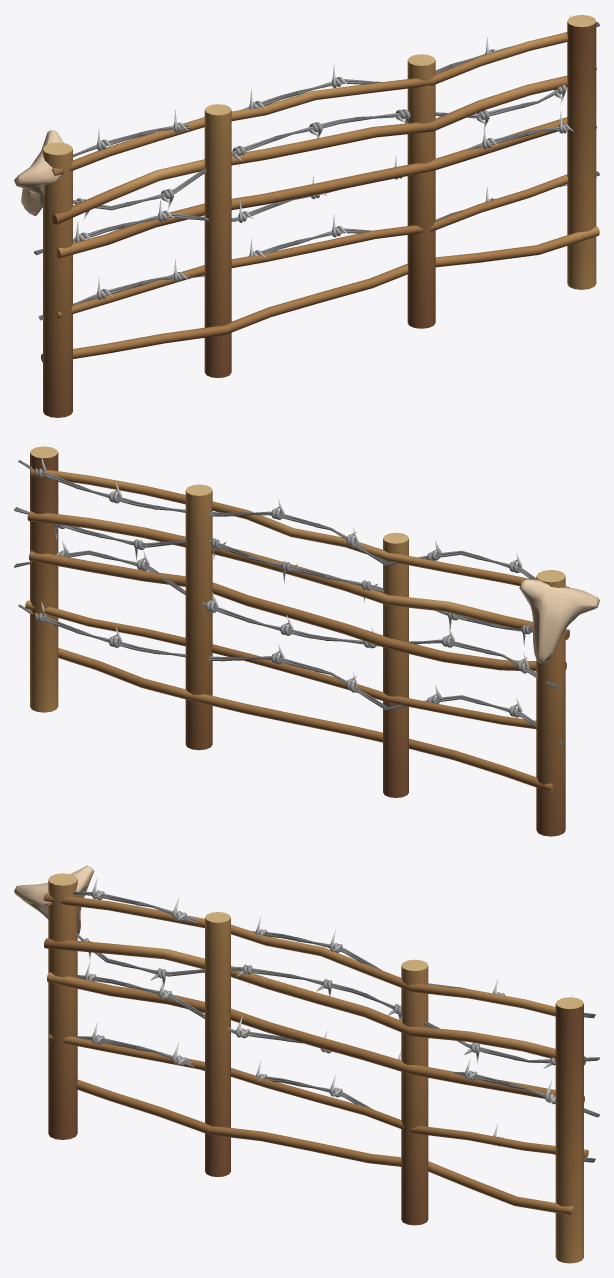
Rendered from Base_Fence 2.fbx.
3 views of the same model, one above another, from view 1: azimuth 30°, elevation 25°; view 2: azimuth 150°, elevation 25°; view 3: azimuth 330°, elevation 25° (orthographic). The views are drawn at different scales.
Visible parts, largest first — view 1: pHelix13, pCube4; view 2: pHelix13, pCube4; view 3: pHelix13, pCube4.
Boxes of the visible parts, bbox=[...] form: pHelix13: bbox=[34, 15, 599, 417]; pCube4: bbox=[14, 130, 63, 215]; pHelix13: bbox=[14, 446, 569, 836]; pCube4: bbox=[519, 579, 599, 663]; pHelix13: bbox=[43, 873, 599, 1263]; pCube4: bbox=[14, 865, 94, 934].
Size of the model in its own units: 16.63 by 7.46 by 1.68.
1 material, 1 textured.
